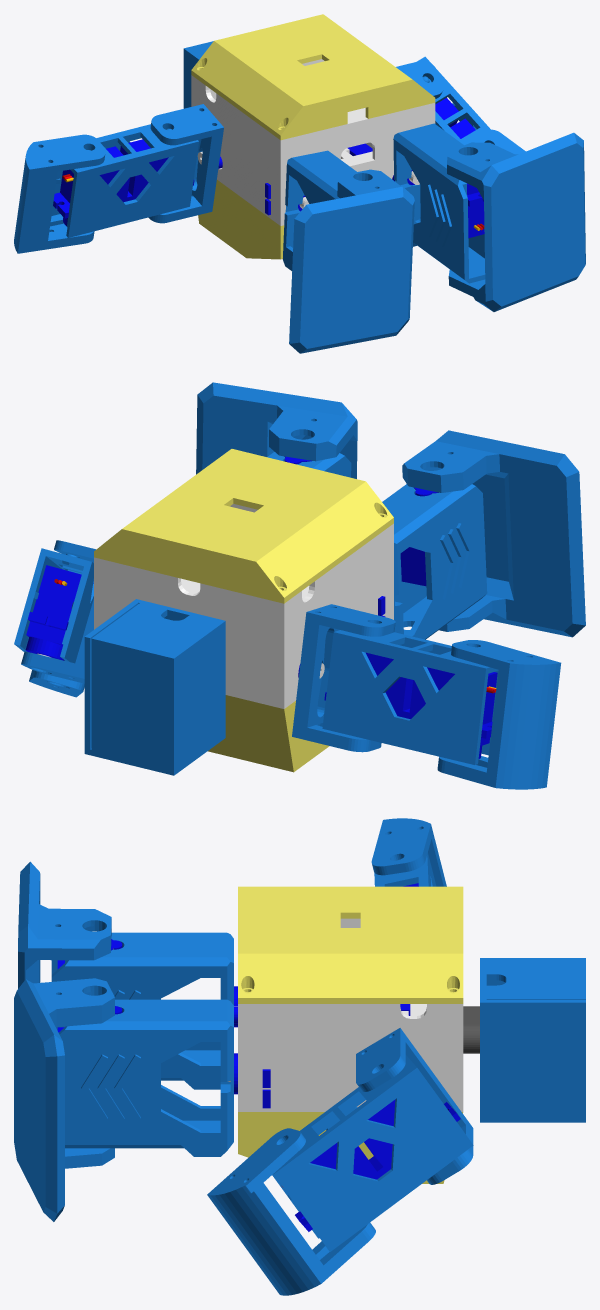
Rendered from Lono-v2.gltf.
3 renders of one model, top to bottom at view 1: azimuth 30°, elevation 25°; view 2: azimuth 150°, elevation 25°; view 3: azimuth 270°, elevation 25°, orthographic. The views are drawn at different scales.
Size of the model in its own units: 0.2015 by 0.0911 by 0.1726.
